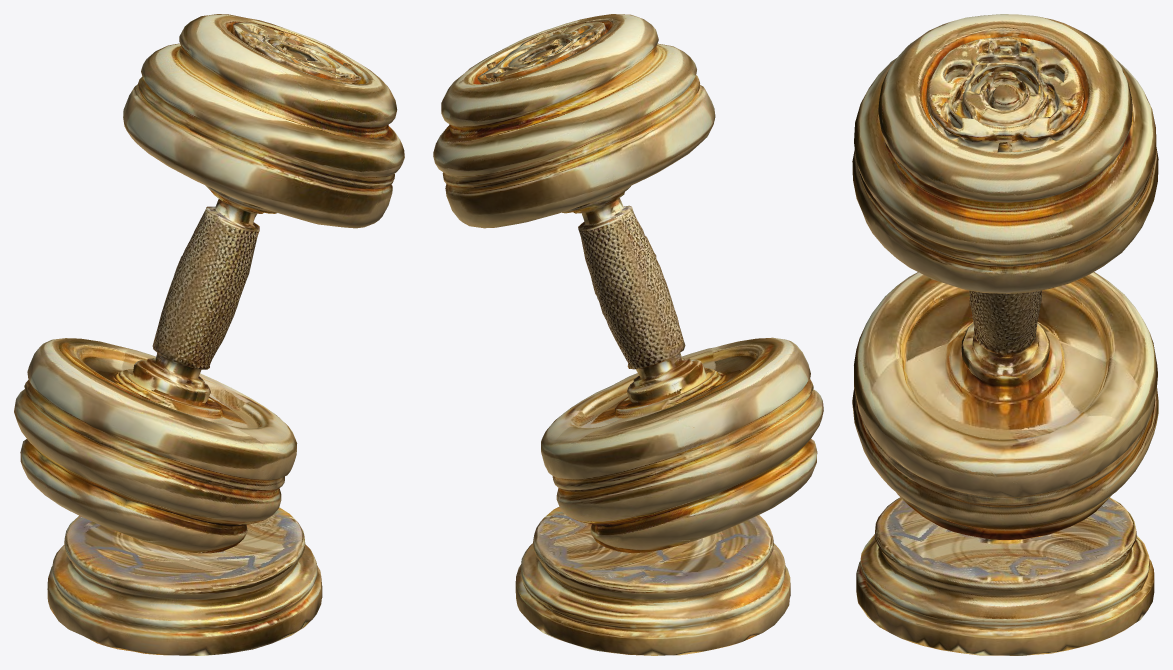
The model's file is draw_dumbbell_gold.glb.
3 renders of one model, left to right at view 1: azimuth 30°, elevation 25°; view 2: azimuth 150°, elevation 25°; view 3: azimuth 270°, elevation 25°, orthographic. The views are drawn at different scales.
Visible parts, largest first — view 1: texture_mapping; view 2: texture_mapping; view 3: texture_mapping.
Part boxes in pixels (bbox=[...]): texture_mapping: bbox=[14, 14, 404, 655]; texture_mapping: bbox=[433, 14, 823, 655]; texture_mapping: bbox=[852, 14, 1158, 655].
Bounding box in the file's own units: 0.6633 × 1 × 0.4662.
1 material, 1 textured.
